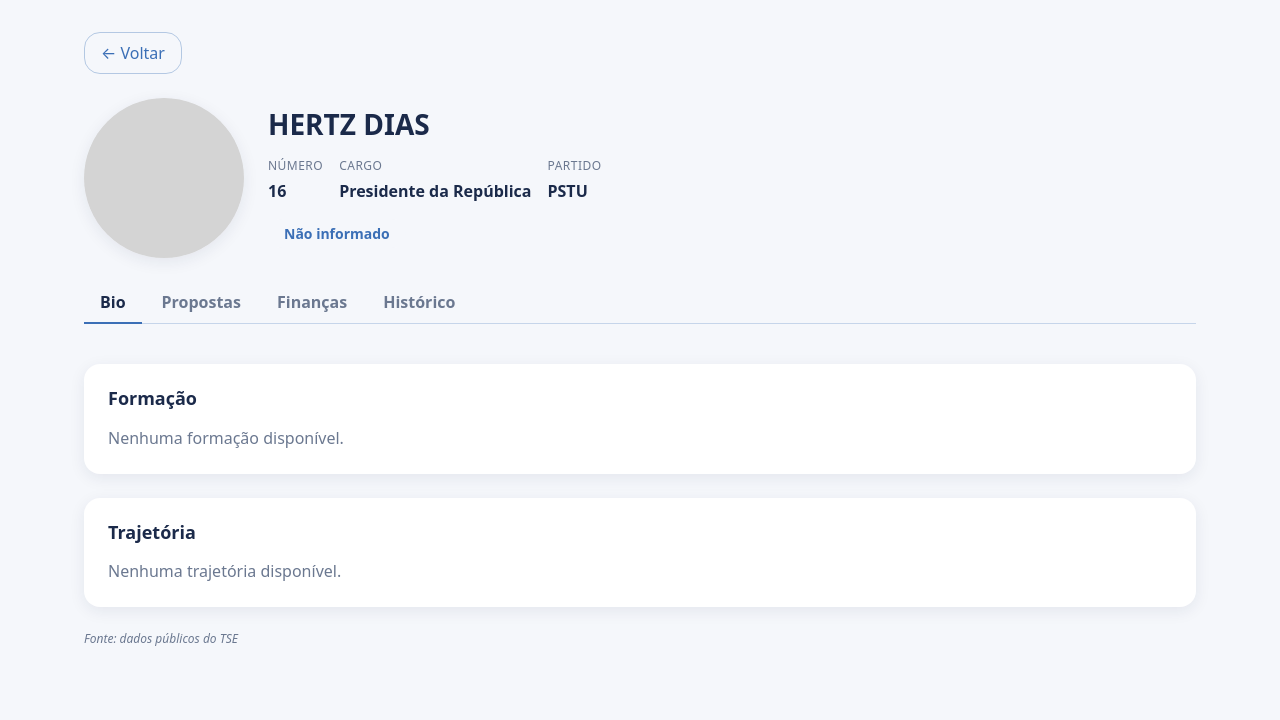
Test: CandidateProfilePage tab switching (Req 4.4) › shows the selected tab panel and hides the previously active panel
Expected: the heading "Formação" is shown, 108,386 -> 197,410
Expected: the text "TOTAL ARRECADADO" is not shown
Activate the "Finanças" tab.
Click the tab "Finanças": {"x": 312, "y": 303} 261,282 -> 363,324
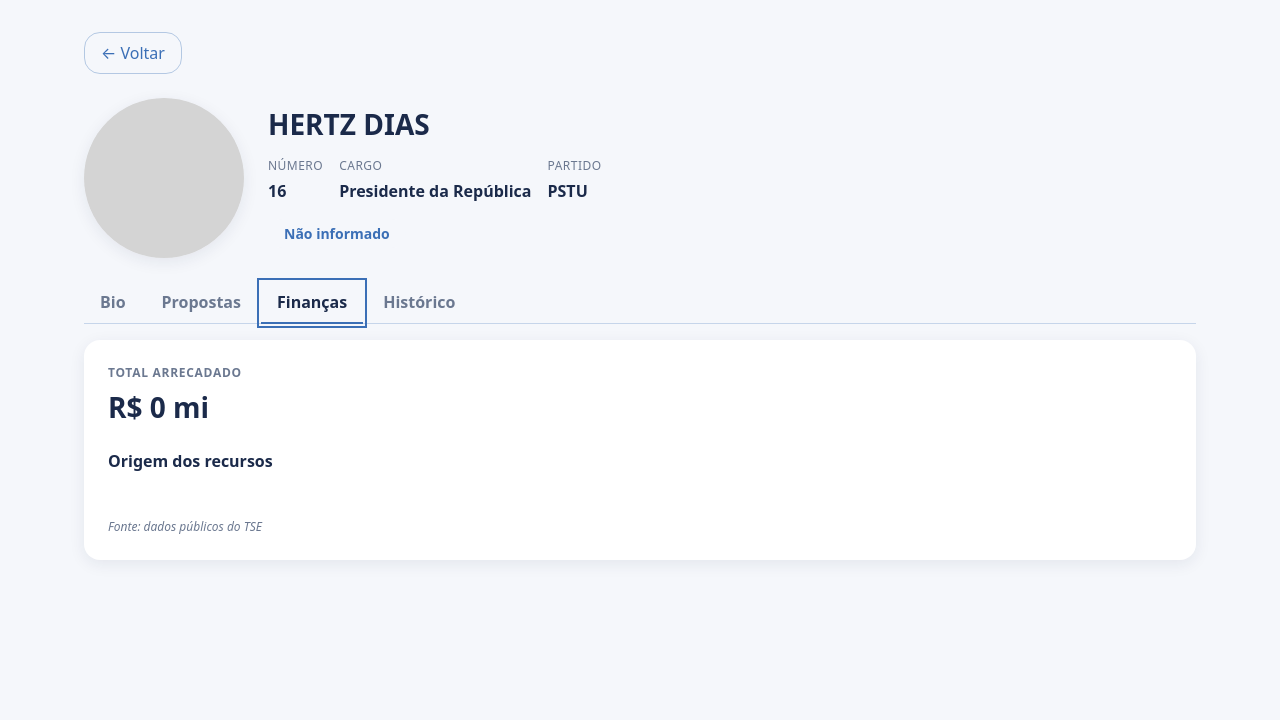
Result: the text "TOTAL ARRECADADO" is shown at 108,364 -> 242,381
Result: the heading "Formação" is gone
